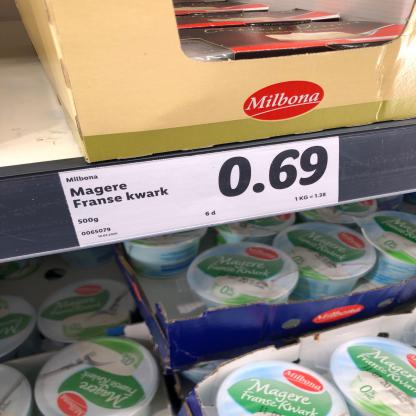prtg: (59, 137, 340, 248)
